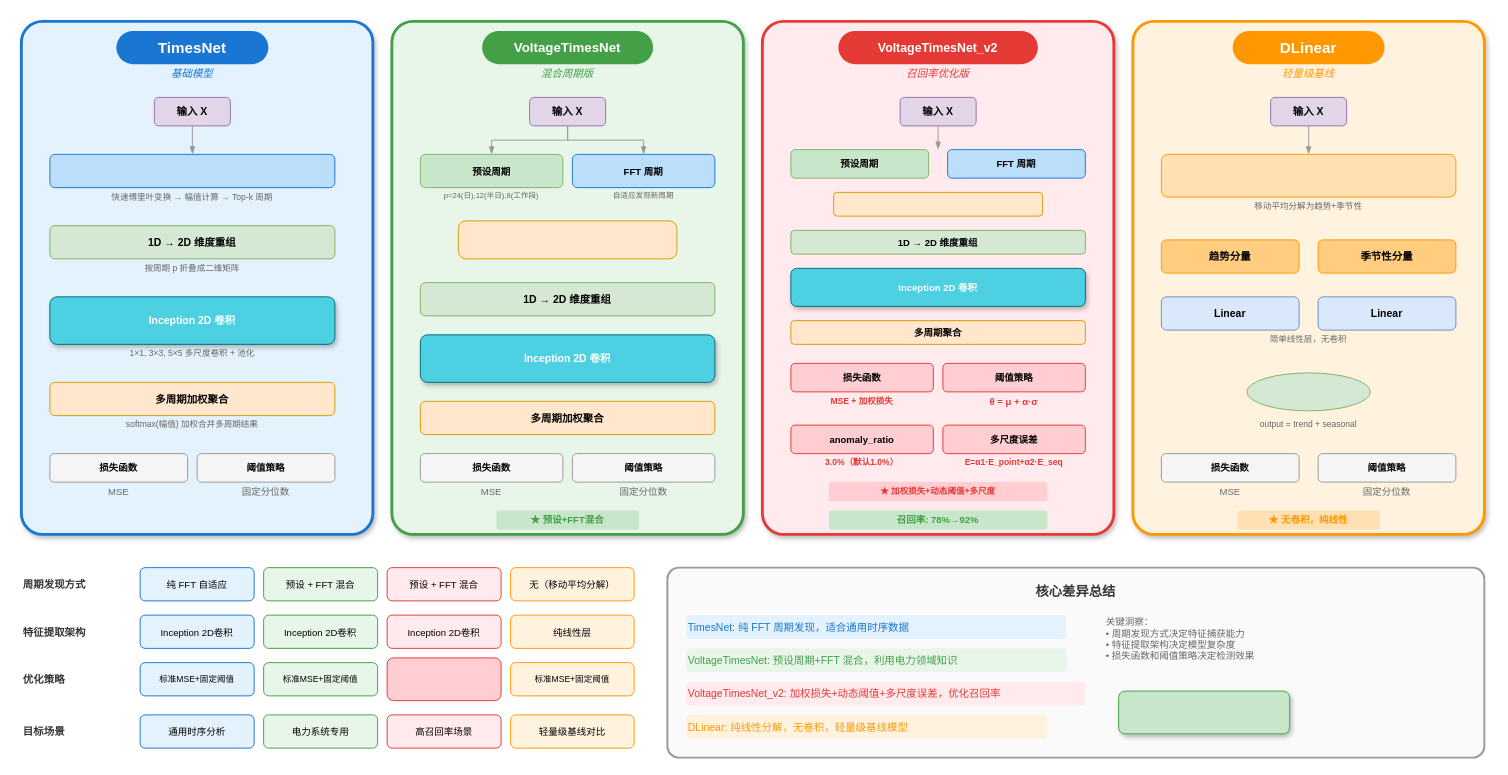
Image size: 1508x775. Some labels were removed from this diagram. Here are the shapes that lost their labels. From the top down, the centre of each, then its label:
point 192,170: FFT 周期发现
point 1308,175: 序列分解
point 938,203: 周期合并
point 567,239: 周期合并（去重）
point 1308,391: 相加融合
point 443,679: 加权损失+动态阈值 +多尺度误差融合
point 1204,713: 推荐：VoltageTimesNet_v2 召回率 92% | F1 87%
